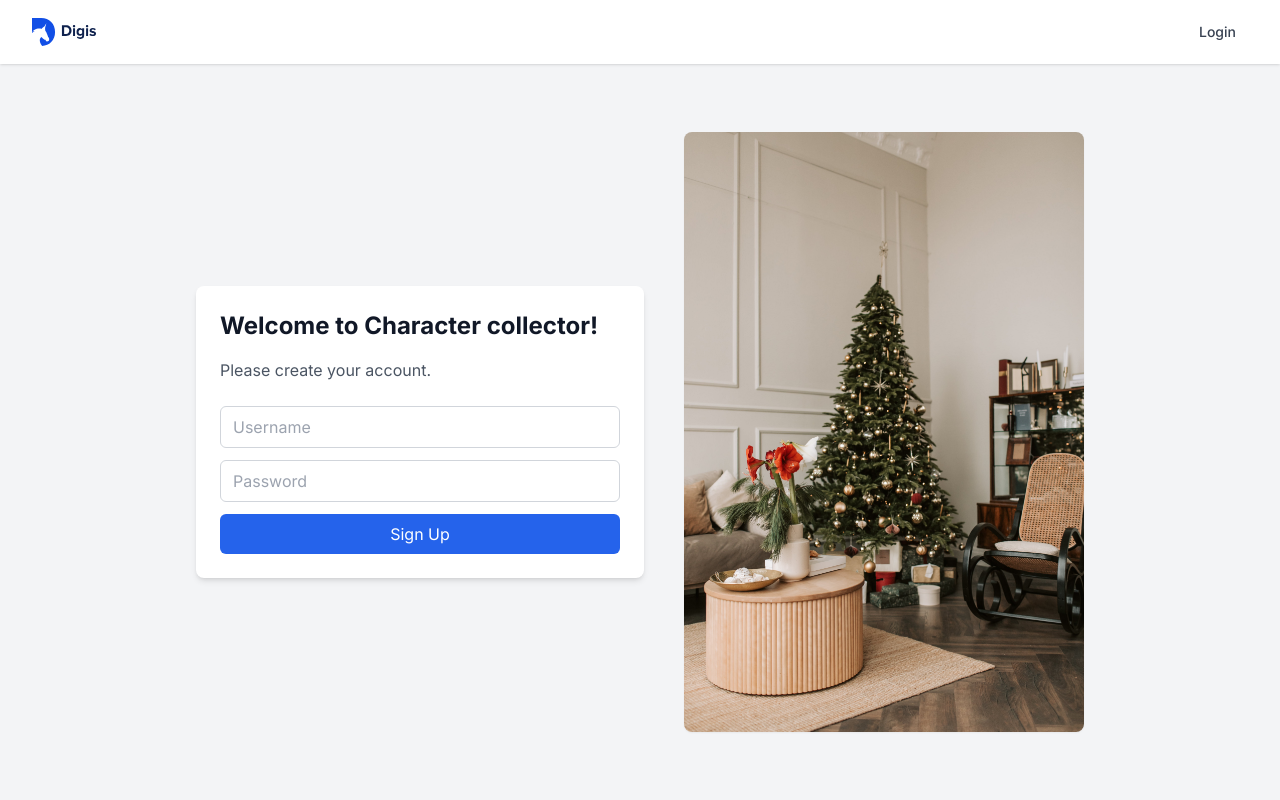
Test: Signup › shows an error message for an existing username
This screenshot has width=1280, height=800.
Type "existingUser" into the field with placeholder "Username" at (420, 427), box 220,406 -> 620,448
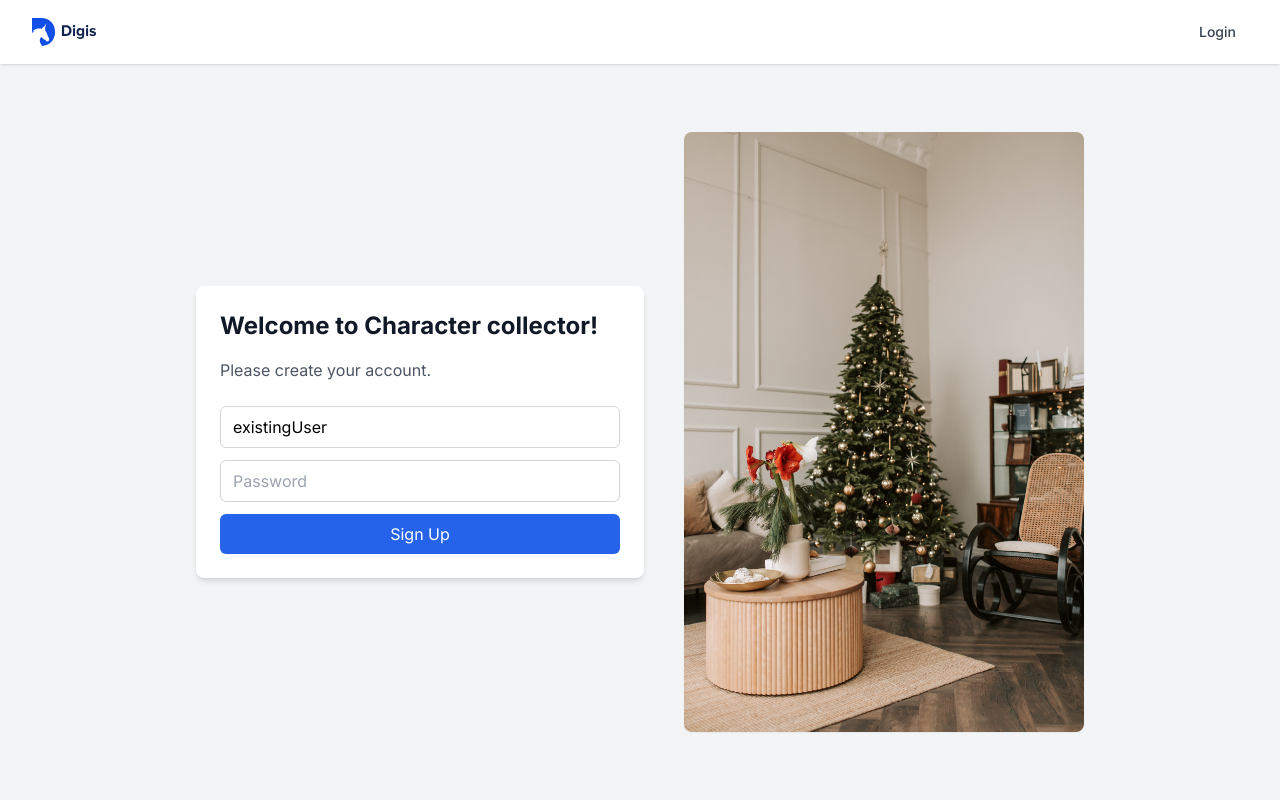
Type "password123" into the password field with placeholder "Password" at (420, 481), box 220,460 -> 620,502
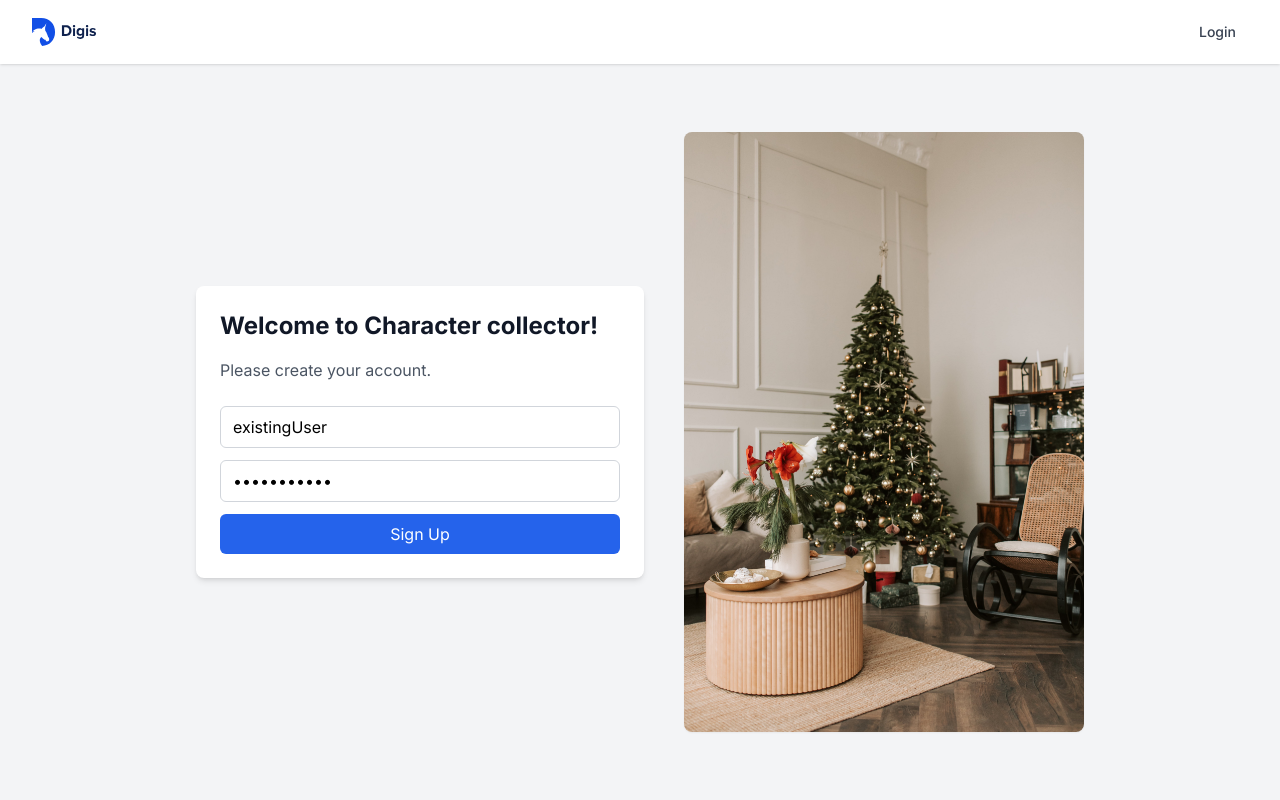
Click the button "Sign Up" at (420, 534), box 220,514 -> 620,554
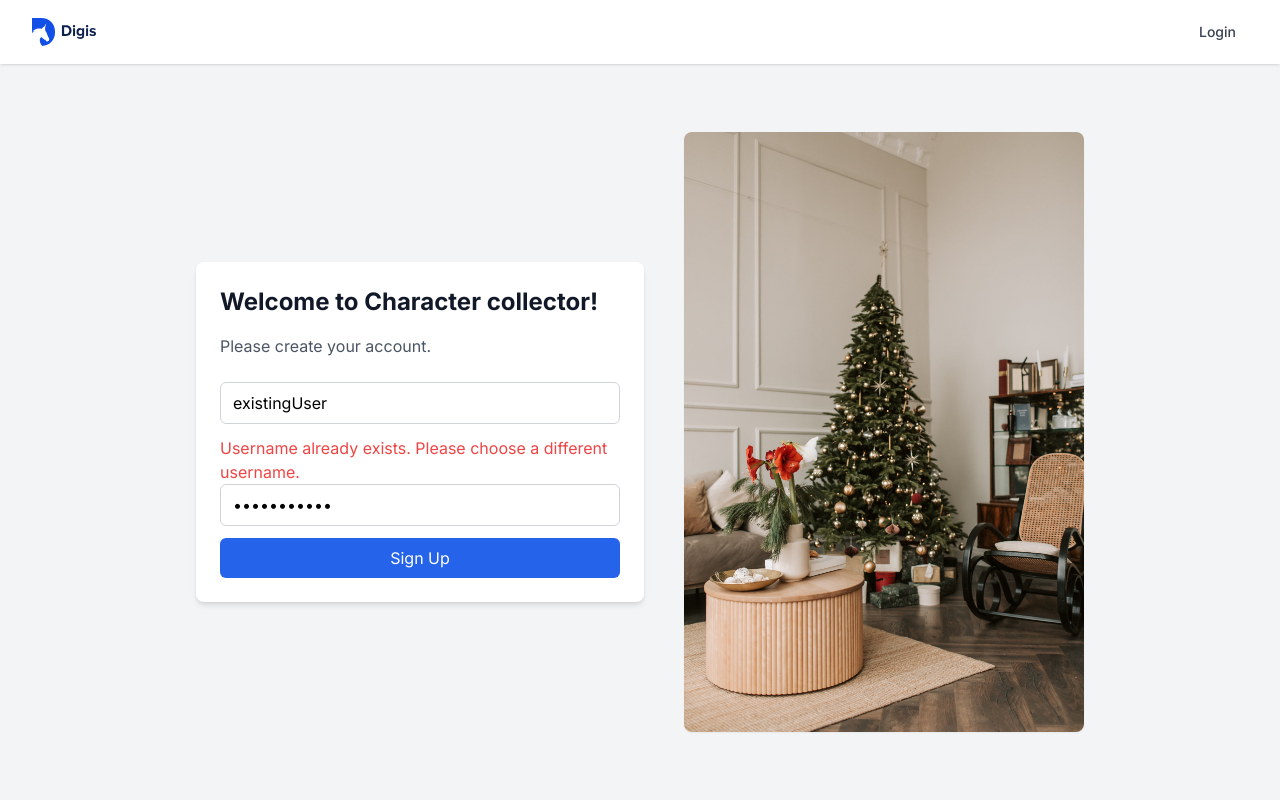
Result: the text "Username already exists. Please choose a different username." is shown at 220,436 -> 620,484
